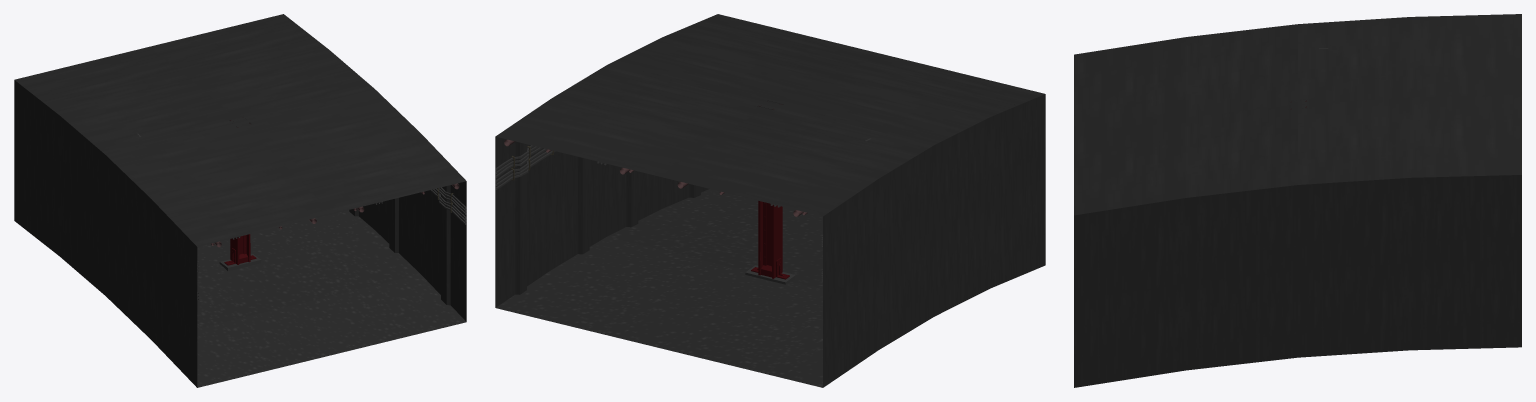
Rendered from SW_ENV_RailTunnel_Riser_B_Double_10m_FF.fbx.
The picture shows the model from 3 angles, left to right: view 1: azimuth 30°, elevation 25°; view 2: azimuth 150°, elevation 25°; view 3: azimuth 270°, elevation 25°; orthographic projection. The views are drawn at different scales.
Parts seen in each view (by area): view 1: SW_ENV_RailTunnel_Riser_B_Double_10m_FF; view 2: SW_ENV_RailTunnel_Riser_B_Double_10m_FF; view 3: SW_ENV_RailTunnel_Riser_B_Double_10m_FF.
Boxes of the visible parts, bbox=[...] form: SW_ENV_RailTunnel_Riser_B_Double_10m_FF: bbox=[14, 14, 466, 387]; SW_ENV_RailTunnel_Riser_B_Double_10m_FF: bbox=[495, 14, 1045, 387]; SW_ENV_RailTunnel_Riser_B_Double_10m_FF: bbox=[1074, 14, 1521, 387].
Bounding box in the file's own units: 8.5 × 5.25 × 10.
